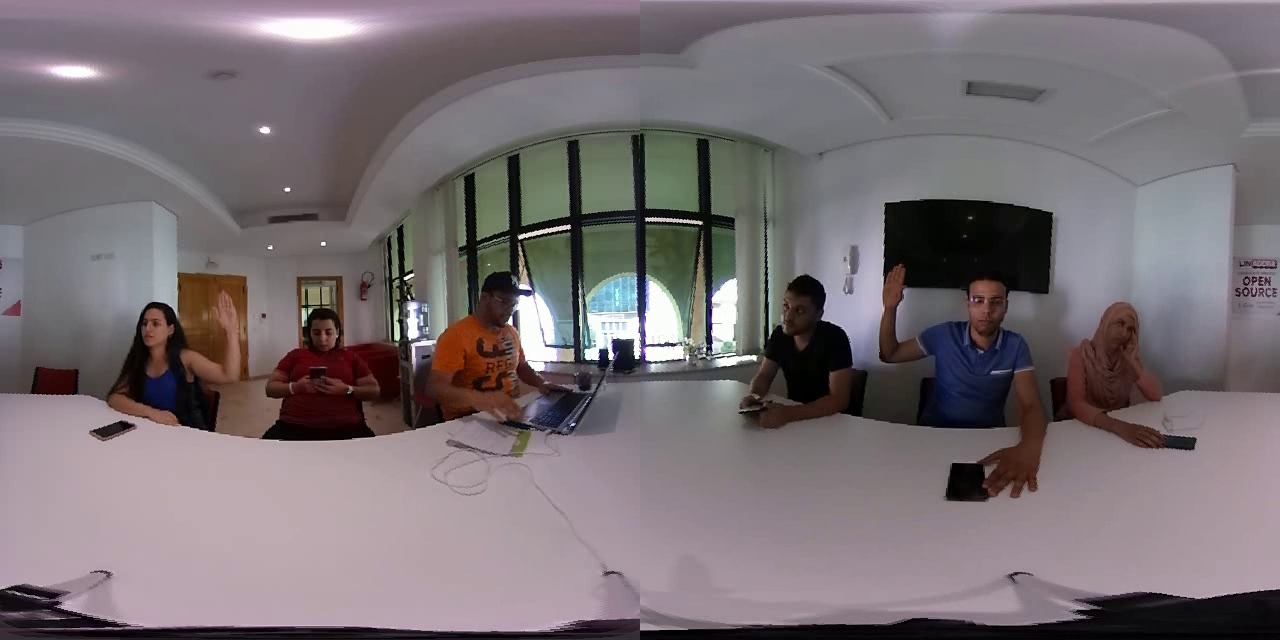person: (875, 249, 1060, 501), (93, 281, 249, 443), (720, 269, 864, 441), (423, 268, 558, 427), (1065, 296, 1193, 454), (262, 295, 386, 445)
voting: (881, 264, 948, 379), (179, 286, 247, 390)
